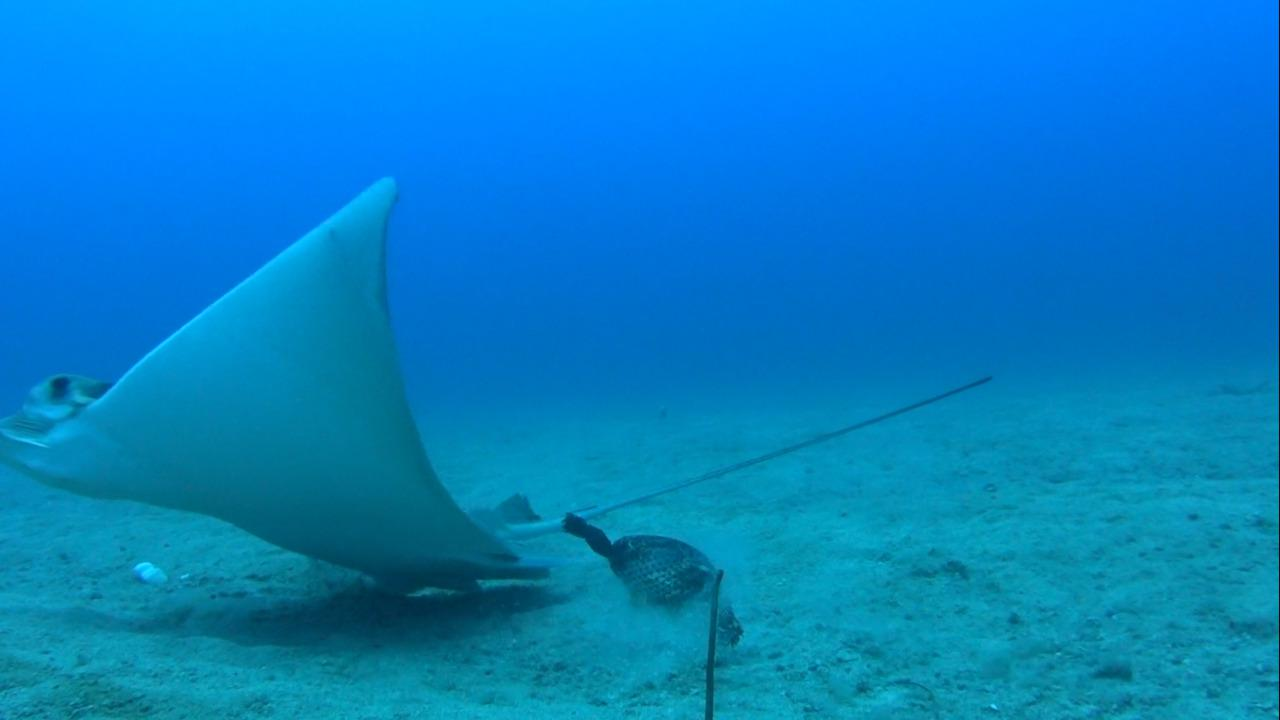myliobatis: (3, 168, 1001, 589)
